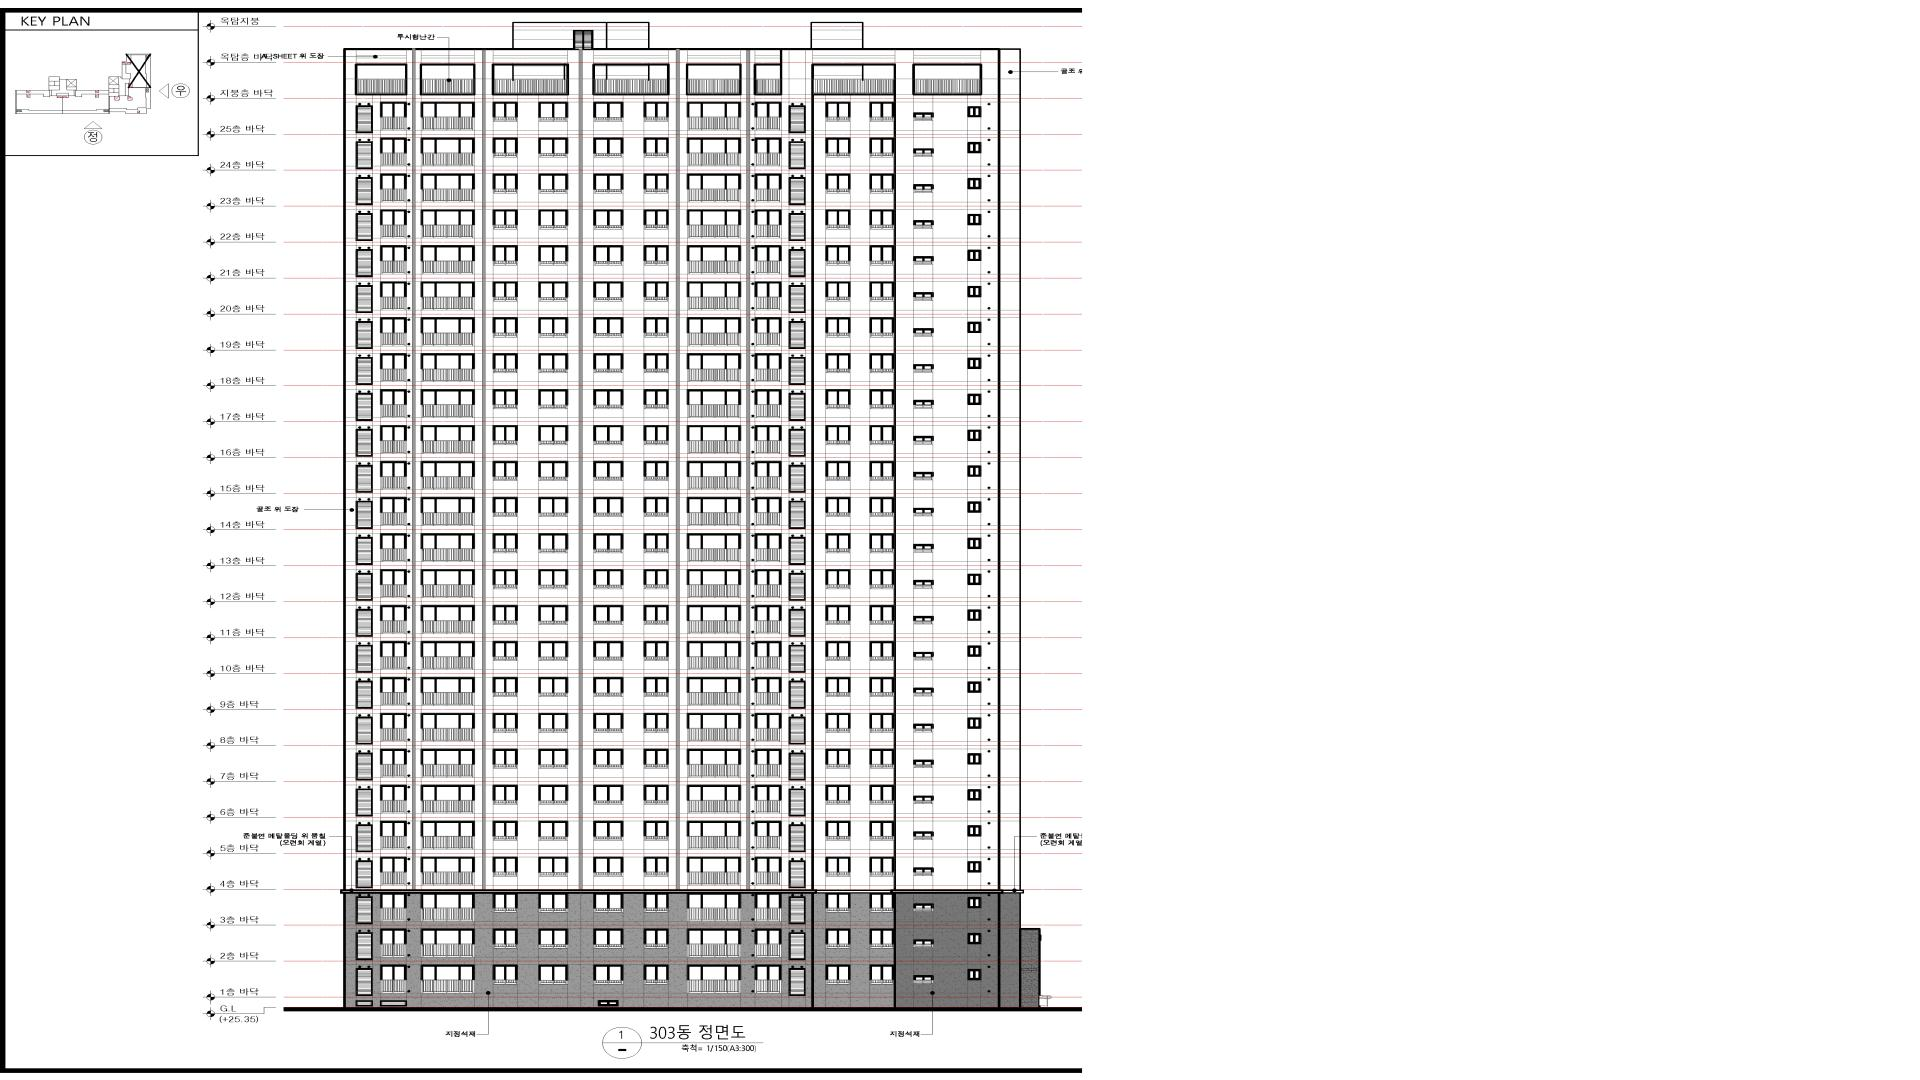wall: (343, 22, 1040, 1011)
window: (812, 64, 895, 95), (492, 64, 568, 95), (593, 64, 669, 95), (913, 64, 981, 95), (687, 64, 741, 95), (355, 63, 407, 95), (422, 64, 474, 96), (687, 102, 741, 131), (687, 137, 741, 166), (687, 173, 741, 202), (687, 209, 741, 238), (687, 245, 741, 274), (687, 281, 741, 310), (687, 317, 741, 346), (687, 353, 741, 382), (687, 389, 741, 418), (687, 425, 741, 454), (687, 461, 741, 490), (687, 497, 741, 526), (687, 533, 741, 562), (687, 569, 741, 598), (687, 605, 741, 634), (687, 641, 741, 670), (687, 677, 741, 706), (687, 713, 741, 742), (687, 749, 741, 778), (687, 785, 741, 814), (687, 820, 741, 849), (687, 857, 741, 886), (687, 893, 741, 922), (687, 928, 741, 957), (687, 964, 741, 993), (421, 964, 475, 993), (421, 928, 475, 957), (421, 892, 475, 921), (421, 857, 475, 886), (421, 821, 475, 850), (420, 785, 474, 814), (421, 749, 475, 778), (421, 713, 475, 742), (421, 677, 475, 706), (421, 641, 475, 670), (421, 605, 475, 634), (421, 569, 475, 598), (421, 533, 475, 562), (421, 389, 475, 418), (421, 353, 475, 382), (421, 281, 475, 310), (420, 245, 474, 274), (421, 209, 475, 238), (421, 173, 475, 202), (421, 137, 475, 166), (421, 102, 475, 131), (421, 497, 474, 526), (421, 461, 474, 490), (421, 425, 474, 454), (421, 317, 474, 346), (754, 64, 782, 95), (755, 569, 782, 598), (754, 533, 781, 562), (755, 497, 782, 526), (754, 461, 781, 490), (755, 425, 782, 454), (755, 389, 782, 418), (754, 353, 781, 382), (755, 317, 782, 346), (755, 282, 782, 311), (755, 245, 782, 274), (755, 209, 782, 238), (754, 173, 781, 202), (755, 137, 782, 166), (755, 101, 782, 130), (380, 137, 407, 166), (380, 173, 407, 202), (380, 209, 407, 238), (380, 245, 407, 274), (380, 281, 407, 310), (380, 317, 407, 346), (380, 353, 407, 382), (380, 389, 407, 418), (380, 425, 407, 454), (380, 461, 407, 490), (380, 497, 407, 526), (380, 533, 407, 562), (380, 569, 407, 598), (380, 605, 407, 634), (380, 641, 407, 670), (380, 677, 407, 706), (380, 713, 407, 742), (380, 749, 407, 778), (380, 784, 407, 813), (380, 821, 407, 850), (380, 857, 407, 886), (380, 893, 407, 922), (380, 928, 407, 957), (380, 964, 407, 993), (755, 928, 782, 957), (754, 893, 781, 922), (754, 856, 781, 885), (754, 820, 781, 849), (754, 784, 781, 813), (755, 748, 782, 777), (755, 713, 782, 742), (754, 677, 781, 706), (754, 641, 781, 670), (755, 605, 782, 634), (380, 102, 407, 130), (755, 964, 781, 993), (593, 102, 624, 122), (593, 137, 624, 157), (593, 173, 624, 193), (593, 245, 624, 265), (593, 389, 624, 409), (593, 569, 624, 589), (593, 605, 624, 625), (593, 677, 624, 697), (593, 857, 624, 877), (593, 892, 624, 912), (538, 748, 569, 768), (538, 713, 569, 733), (538, 641, 569, 661), (538, 605, 569, 625), (538, 533, 569, 553), (538, 425, 569, 445), (538, 389, 569, 409), (593, 209, 623, 229), (593, 281, 623, 301), (593, 317, 623, 337), (593, 353, 623, 373), (593, 425, 623, 445), (593, 461, 623, 481), (593, 497, 623, 517), (593, 533, 623, 553), (593, 641, 623, 661), (593, 713, 623, 733), (593, 821, 623, 841), (593, 928, 623, 948), (538, 964, 568, 984), (538, 892, 568, 912), (538, 821, 568, 841), (538, 677, 568, 697), (538, 569, 568, 589), (538, 497, 568, 517), (538, 353, 568, 373), (538, 317, 568, 337), (538, 281, 568, 301), (538, 245, 568, 265), (538, 173, 568, 193), (538, 137, 568, 157), (593, 785, 624, 804), (538, 857, 569, 876), (355, 569, 373, 601), (788, 785, 806, 817), (593, 749, 623, 768), (593, 965, 623, 984), (538, 929, 568, 948), (538, 785, 568, 804), (538, 461, 568, 480), (538, 210, 568, 229), (538, 102, 568, 121), (355, 102, 373, 133), (355, 174, 373, 205), (355, 210, 373, 241), (355, 318, 373, 349), (355, 534, 373, 565), (355, 642, 373, 673), (355, 678, 373, 709), (355, 821, 373, 852), (355, 929, 373, 960), (788, 965, 806, 996), (788, 893, 806, 924), (788, 821, 806, 852), (788, 749, 806, 780), (788, 606, 806, 637), (788, 462, 806, 493), (788, 426, 806, 457), (788, 390, 806, 421), (788, 246, 806, 277), (788, 174, 806, 205), (788, 138, 806, 169), (788, 102, 806, 133), (356, 605, 373, 637), (356, 713, 373, 745), (356, 785, 373, 817), (789, 713, 806, 745), (789, 641, 806, 673), (789, 281, 806, 313), (356, 138, 373, 169), (356, 246, 373, 277), (356, 282, 373, 313), (356, 354, 373, 385), (356, 390, 373, 421), (356, 426, 373, 457), (356, 462, 373, 493), (356, 498, 373, 529), (356, 749, 373, 780), (356, 857, 373, 888), (356, 893, 373, 924), (356, 965, 373, 996), (789, 929, 806, 960), (789, 857, 806, 888), (789, 678, 806, 709), (789, 569, 806, 600), (789, 534, 806, 565), (789, 498, 806, 529), (789, 354, 806, 385), (789, 318, 806, 349), (789, 210, 806, 241), (825, 569, 851, 589), (825, 749, 851, 769), (825, 784, 851, 804), (825, 821, 851, 841), (825, 857, 851, 877), (825, 892, 851, 912), (825, 964, 851, 984), (643, 964, 669, 984), (643, 928, 669, 948), (643, 748, 669, 768), (643, 713, 669, 733), (643, 569, 669, 589), (643, 389, 669, 409), (492, 137, 518, 157), (492, 173, 518, 193), (492, 245, 518, 265), (492, 281, 518, 301), (492, 425, 518, 445), (492, 497, 518, 517), (492, 713, 518, 733), (492, 749, 518, 769), (492, 929, 518, 949), (869, 964, 895, 984), (869, 785, 895, 805), (643, 101, 669, 121), (869, 641, 895, 661), (869, 533, 895, 553), (869, 497, 895, 517), (869, 389, 895, 409), (869, 353, 895, 373), (869, 317, 895, 337), (869, 245, 895, 265), (869, 209, 895, 229), (869, 173, 895, 193), (869, 137, 895, 157), (825, 102, 851, 122), (825, 174, 851, 194), (825, 390, 851, 410), (825, 425, 851, 445), (825, 461, 851, 481), (825, 497, 851, 517), (825, 533, 851, 553), (825, 605, 850, 625), (825, 641, 850, 661), (825, 677, 850, 697), (826, 713, 851, 733), (826, 929, 851, 949), (643, 893, 668, 913), (644, 857, 669, 877), (644, 785, 669, 805), (643, 641, 668, 661), (644, 533, 669, 553), (644, 497, 669, 517), (644, 461, 669, 481), (644, 425, 669, 445), (644, 353, 669, 373), (643, 317, 668, 337), (644, 281, 669, 301), (644, 245, 669, 265), (493, 209, 518, 229), (493, 317, 518, 337), (493, 353, 518, 373), (493, 389, 518, 409), (493, 461, 518, 481), (493, 533, 518, 553), (493, 569, 518, 589), (493, 605, 518, 625), (493, 677, 518, 697), (493, 964, 518, 984), (870, 928, 895, 948), (870, 821, 895, 841), (869, 748, 894, 768), (644, 209, 669, 229), (644, 173, 669, 193), (643, 137, 668, 157), (869, 713, 894, 733), (869, 677, 894, 697), (869, 605, 894, 625), (869, 569, 894, 589), (870, 461, 895, 481), (870, 425, 895, 445), (870, 281, 895, 301), (825, 210, 850, 230), (826, 245, 851, 265), (825, 317, 850, 337), (826, 353, 851, 373), (643, 821, 669, 840), (492, 785, 518, 804), (492, 857, 518, 876), (869, 893, 895, 912), (644, 677, 669, 696), (493, 102, 518, 121), (493, 641, 518, 660), (493, 821, 518, 840), (493, 893, 518, 912), (870, 857, 895, 876), (870, 102, 895, 121), (825, 138, 850, 157), (825, 282, 850, 301), (573, 30, 593, 50), (913, 148, 934, 157), (967, 825, 982, 837), (967, 789, 982, 801), (967, 717, 982, 729), (967, 645, 982, 657), (967, 609, 982, 621), (967, 501, 982, 513), (967, 357, 982, 369), (967, 286, 982, 298), (967, 321, 982, 333), (967, 142, 982, 154), (967, 106, 982, 118), (913, 508, 934, 516), (913, 544, 934, 552), (913, 580, 934, 588), (913, 616, 934, 624), (913, 724, 934, 732), (913, 796, 934, 804), (913, 832, 934, 840), (913, 868, 934, 876), (913, 904, 934, 912), (913, 940, 934, 948), (913, 975, 934, 983), (967, 969, 981, 981), (967, 897, 981, 909), (967, 861, 981, 873), (967, 753, 981, 765), (967, 681, 981, 693), (967, 465, 981, 477), (913, 436, 934, 444), (967, 249, 981, 261), (967, 214, 981, 226), (913, 112, 934, 120), (913, 184, 934, 192), (912, 220, 933, 228), (913, 256, 934, 264), (912, 292, 933, 300), (913, 328, 934, 336), (913, 472, 934, 480), (967, 394, 982, 405), (967, 178, 982, 189), (380, 1000, 407, 1006), (913, 652, 933, 660), (913, 688, 933, 696), (913, 760, 933, 768), (913, 364, 933, 372), (913, 400, 933, 408), (967, 933, 981, 944), (967, 574, 981, 585), (967, 538, 981, 549), (967, 430, 981, 441), (598, 1000, 619, 1006), (356, 1000, 373, 1006)
